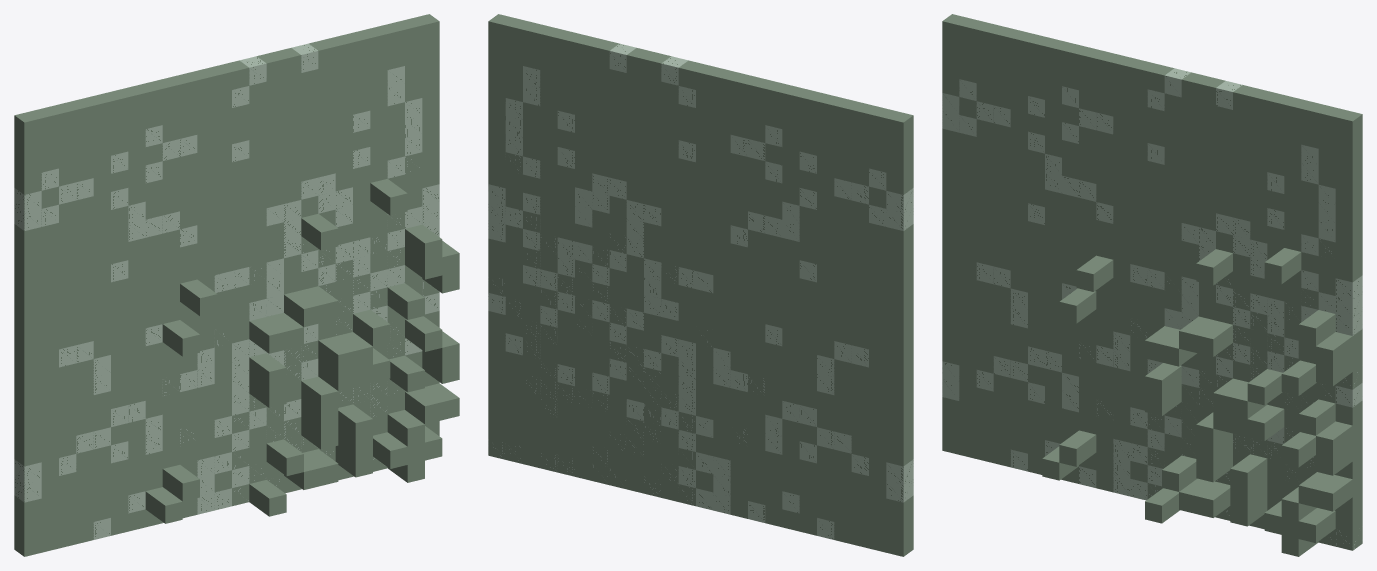
3 views of the same model, side by side, from view 1: azimuth 30°, elevation 25°; view 2: azimuth 150°, elevation 25°; view 3: azimuth 330°, elevation 25° (orthographic).
Bounding box in the file's own units: 2.4 × 2.4 × 0.3.
